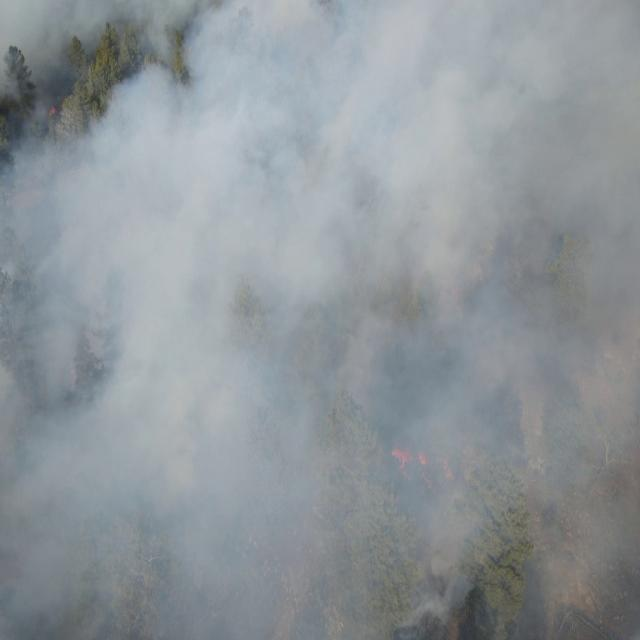fire: (392, 443, 434, 488), (441, 455, 457, 485), (47, 101, 57, 119)
smoke: (0, 0, 640, 640)
